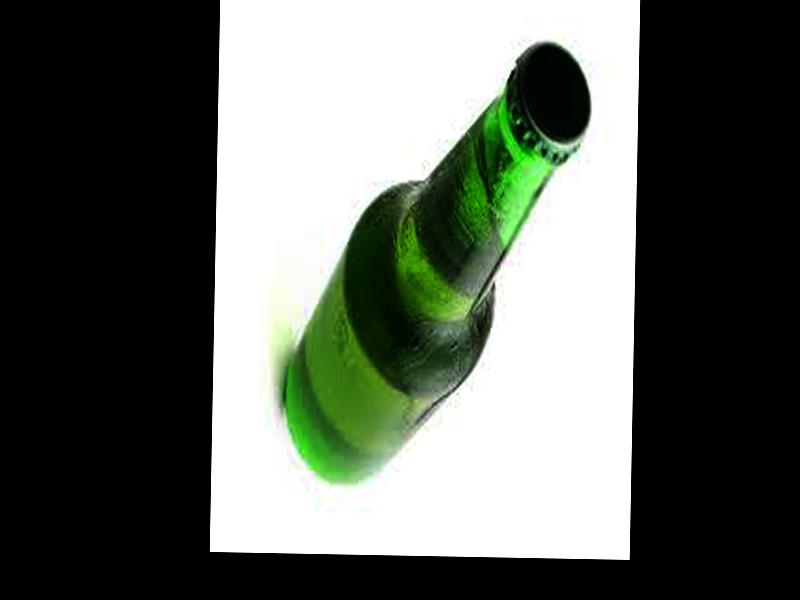Beer: (280, 37, 590, 490)
